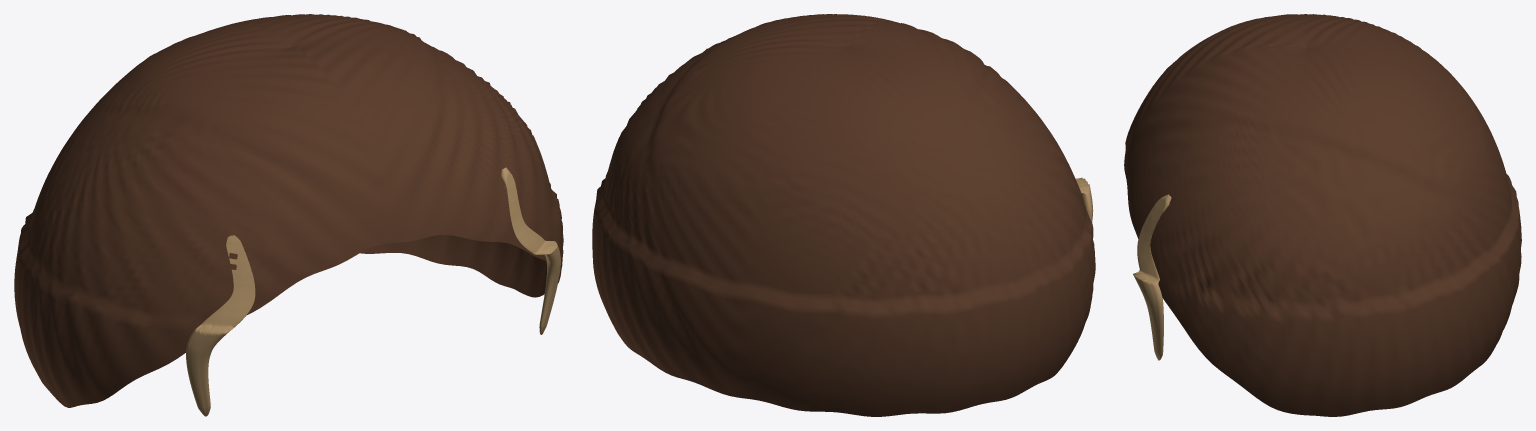
File: Highlights-cbb423138544251-hair.glb
3 renders of one model, left to right at view 1: azimuth 30°, elevation 25°; view 2: azimuth 150°, elevation 25°; view 3: azimuth 270°, elevation 25°, orthographic. The views are drawn at different scales.
Visible parts, largest first — view 1: 226 hair / Hair / chestnut226.002; view 2: 226 hair / Hair / chestnut226.002; view 3: 226 hair / Hair / chestnut226.002.
Part boxes in pixels (x1,y1,x2,y2): 226 hair / Hair / chestnut226.002: [14, 14, 563, 416]; 226 hair / Hair / chestnut226.002: [592, 14, 1095, 416]; 226 hair / Hair / chestnut226.002: [1124, 14, 1521, 416].
Bounding box in the file's own units: 0.9988 × 0.599 × 0.7845.
